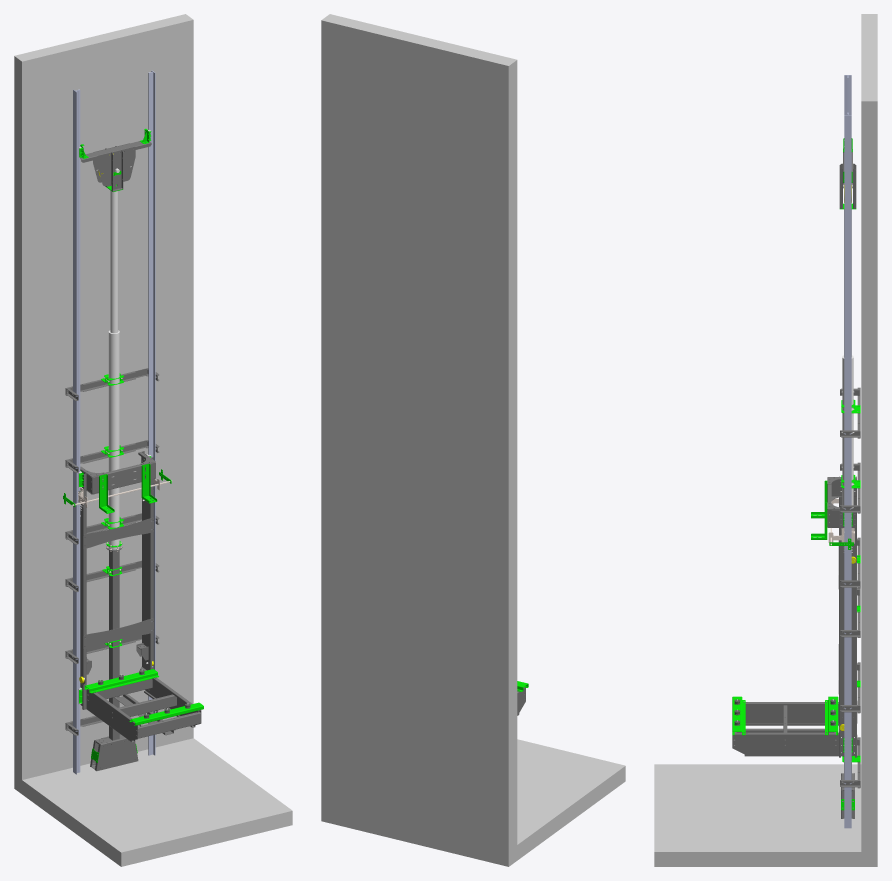
The model's file is camac-lift-chb.glb.
3 views of the same model, side by side, from view 1: azimuth 30°, elevation 25°; view 2: azimuth 150°, elevation 25°; view 3: azimuth 270°, elevation 25° (orthographic). The views are drawn at different scales.
Visible parts, largest first — view 1: Wall CHB-1, Jak 140mm-1, MirrorStyle Left-2, Profil 9x9-1, Style Left-1, Style Left Down-1, Goldani Front-1, Center Playte-2, Center Playte-1, Kamar Carsling UP-1, Kamar Carsling-4, Kamar Carsling-1 (+3 smaller); view 2: Wall CHB-1; view 3: Wall CHB-1, MirrorStyle Left Down-2, MirrorStyle Left-2, Style Left Down-1, Jak 140mm-1, Carsling Balance-2, Carsling Balance-1.
Boxes of the visible parts, x1,y1,x2,y2 form: Wall CHB-1: [14, 14, 292, 866]; Jak 140mm-1: [108, 190, 119, 549]; MirrorStyle Left-2: [142, 451, 153, 670]; Profil 9x9-1: [109, 550, 119, 744]; Style Left-1: [80, 469, 86, 709]; Style Left Down-1: [86, 689, 141, 742]; Goldani Front-1: [95, 737, 138, 771]; Center Playte-2: [83, 618, 153, 649]; Center Playte-1: [83, 517, 153, 548]; Kamar Carsling UP-1: [92, 462, 155, 493]; Kamar Carsling-4: [138, 711, 200, 738]; Kamar Carsling-1: [118, 694, 176, 716]; Wall CHB-1: [321, 14, 625, 866]; Wall CHB-1: [654, 14, 877, 866]; MirrorStyle Left Down-2: [732, 732, 857, 756]; MirrorStyle Left-2: [839, 510, 856, 757]; Style Left Down-1: [743, 701, 857, 725]; Jak 140mm-1: [842, 209, 853, 552]; Carsling Balance-2: [825, 696, 838, 735]; Carsling Balance-1: [732, 696, 745, 735].
Bounding box in the file's own units: 2.5 × 10.2 × 2.7.
